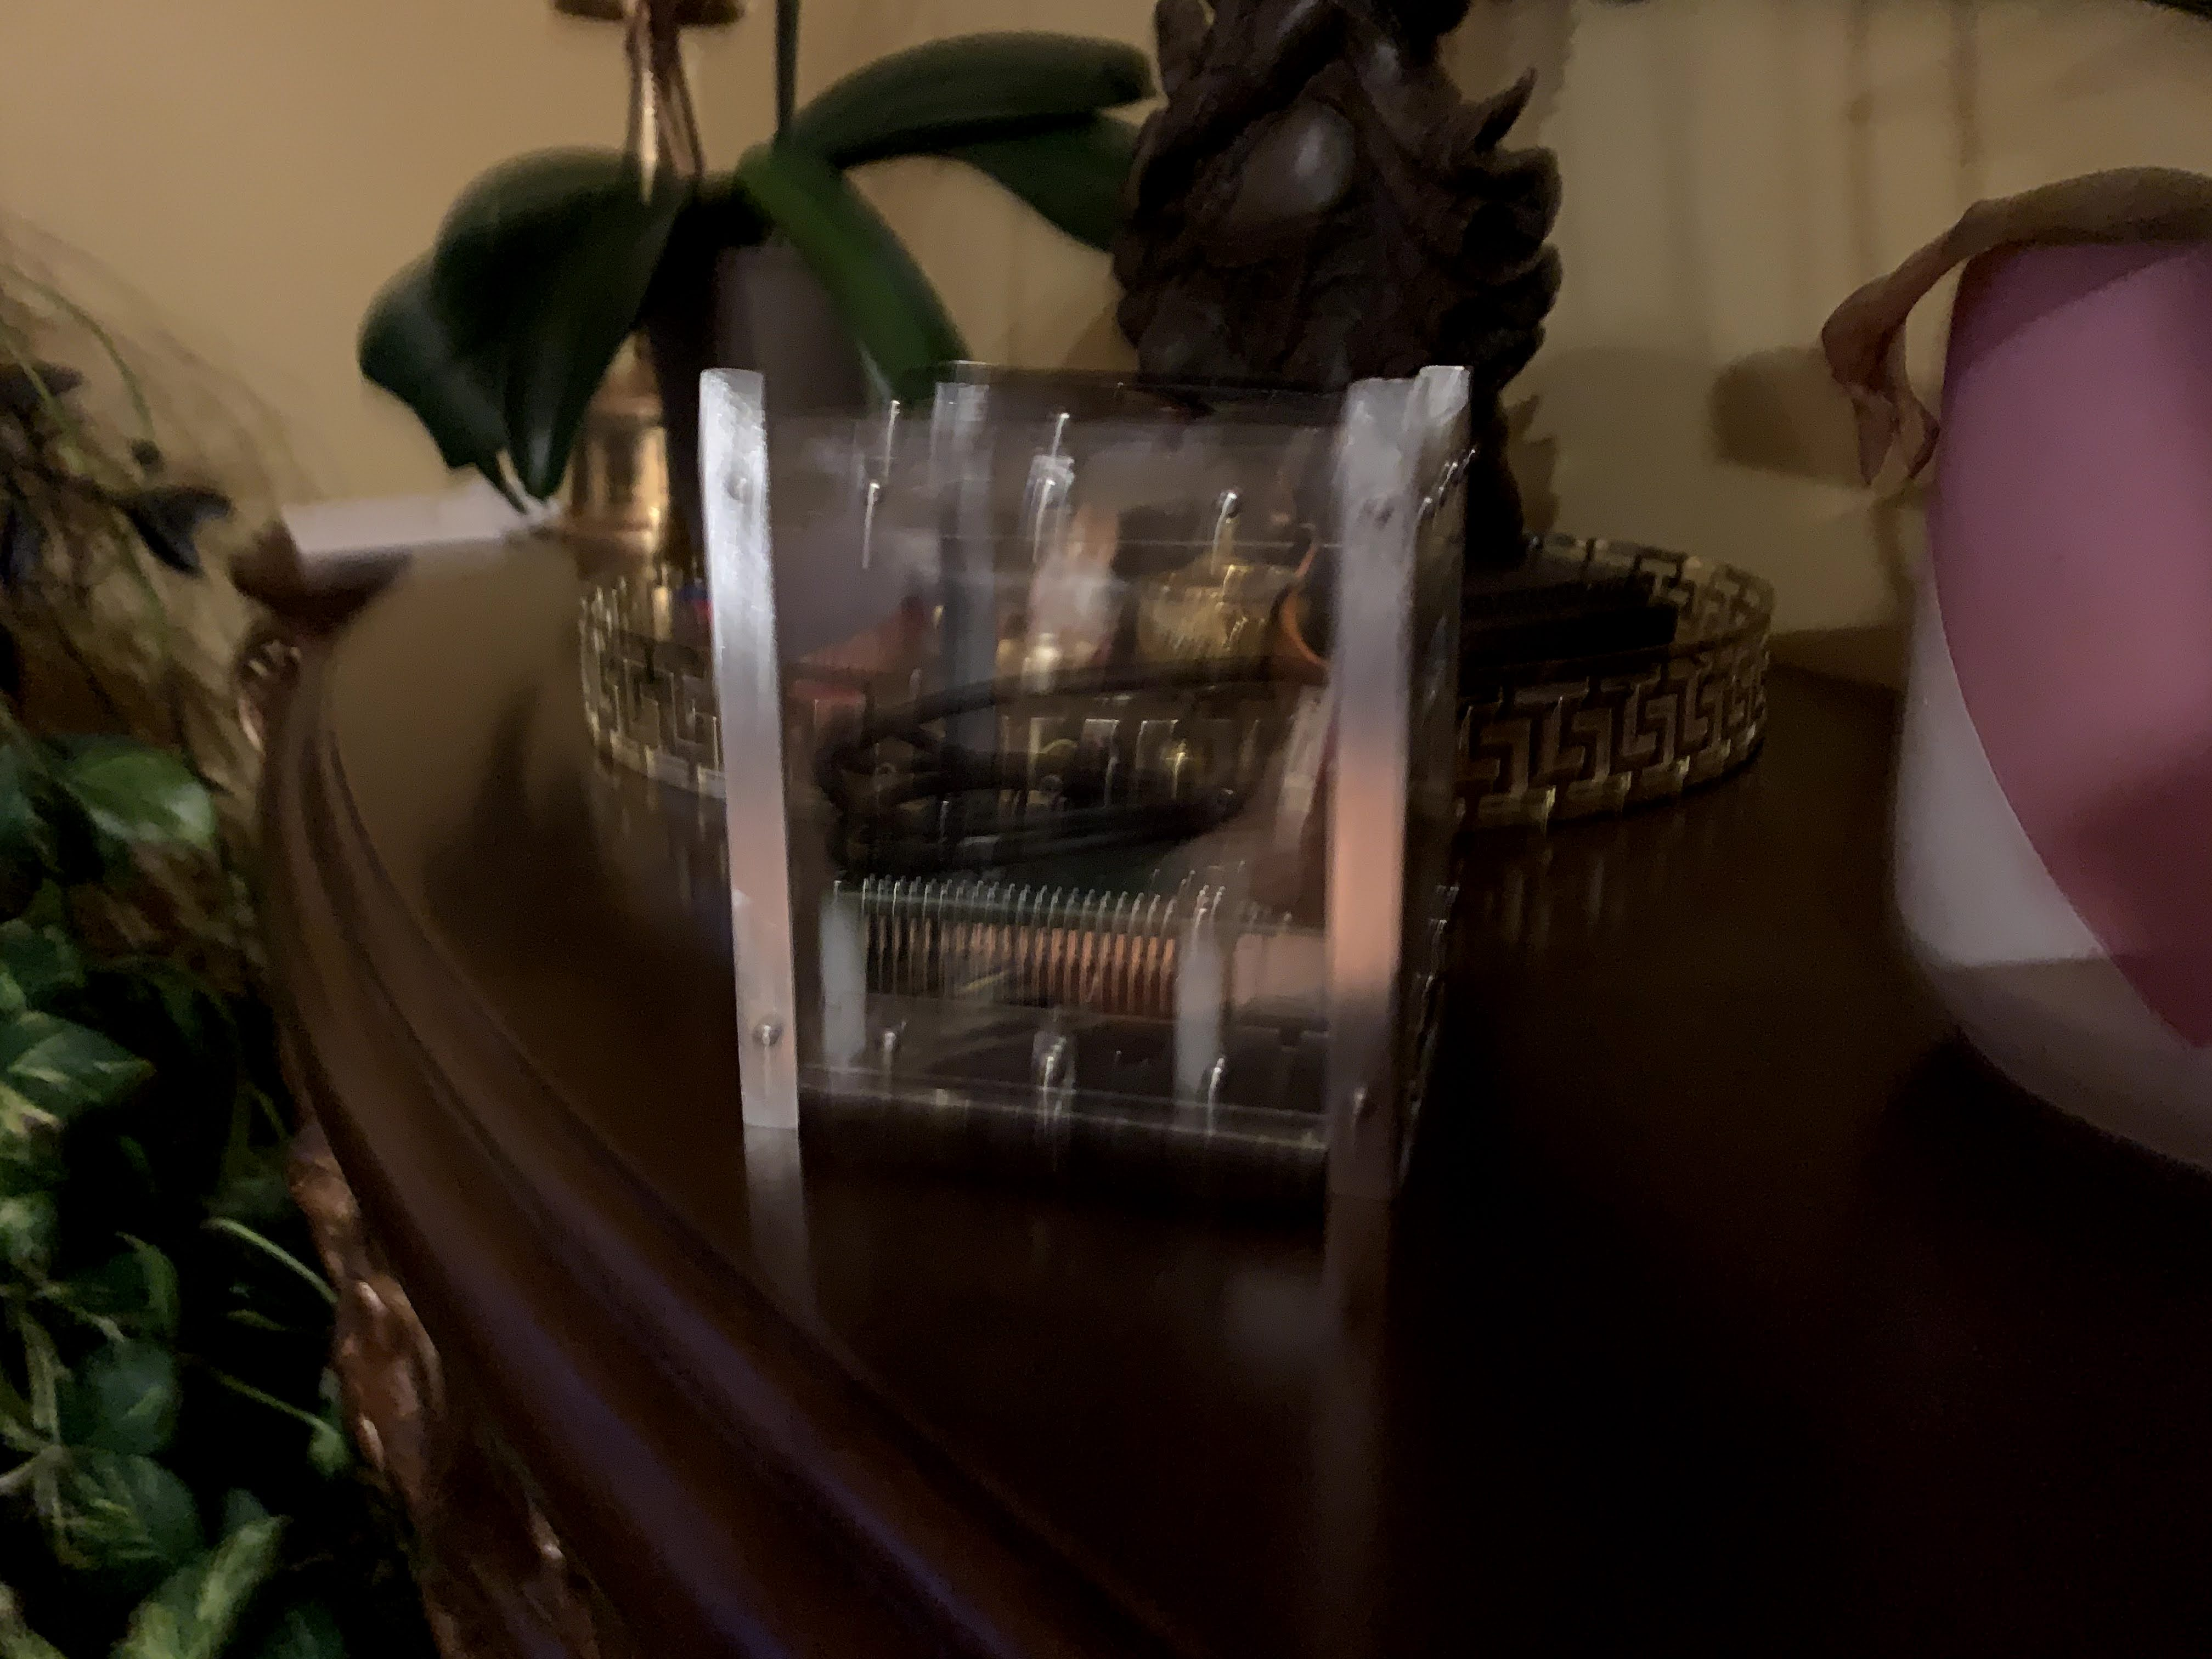Space-debris-cubesat: (697, 307, 1540, 1206)
